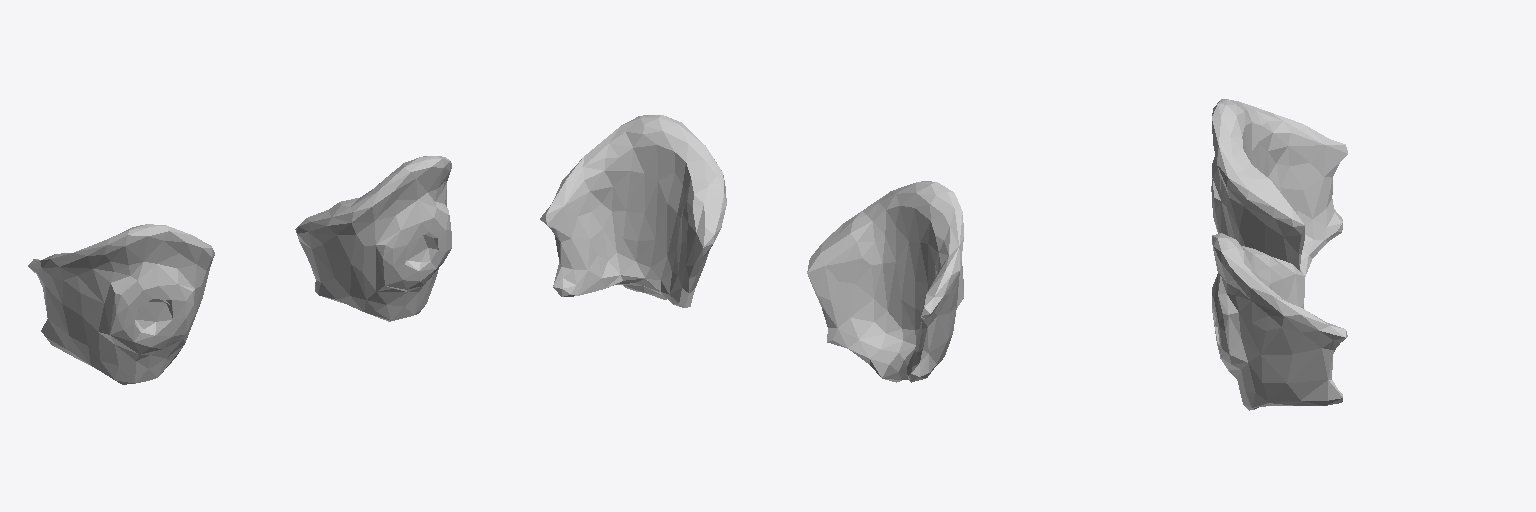
The model's file is Knee guards.OBJ.
The picture shows the model from 3 angles: view 1: azimuth 30°, elevation 25°; view 2: azimuth 150°, elevation 25°; view 3: azimuth 270°, elevation 25°; orthographic projection.
Visible parts, largest first — view 1: Group675; view 2: Group675; view 3: Group675.
Boxes of the visible parts, box(x1,y1,x2,y2) form: Group675: box(28, 156, 451, 384); Group675: box(540, 115, 963, 382); Group675: box(1211, 99, 1347, 410).
Bounding box in the file's own units: 54.53 × 22.7 × 16.57.